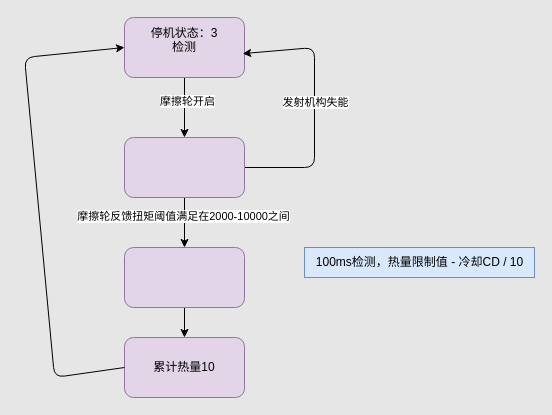
Image size: 552x415. Some labels were removed from this diagram. Here are the shapes that lost their labels. From the top down, the centre of each, then its label:
At pixel 184 167: "正常状态： 0".
At pixel 184 277: "发射嫌疑状态 等待15ms，确认发射了".
